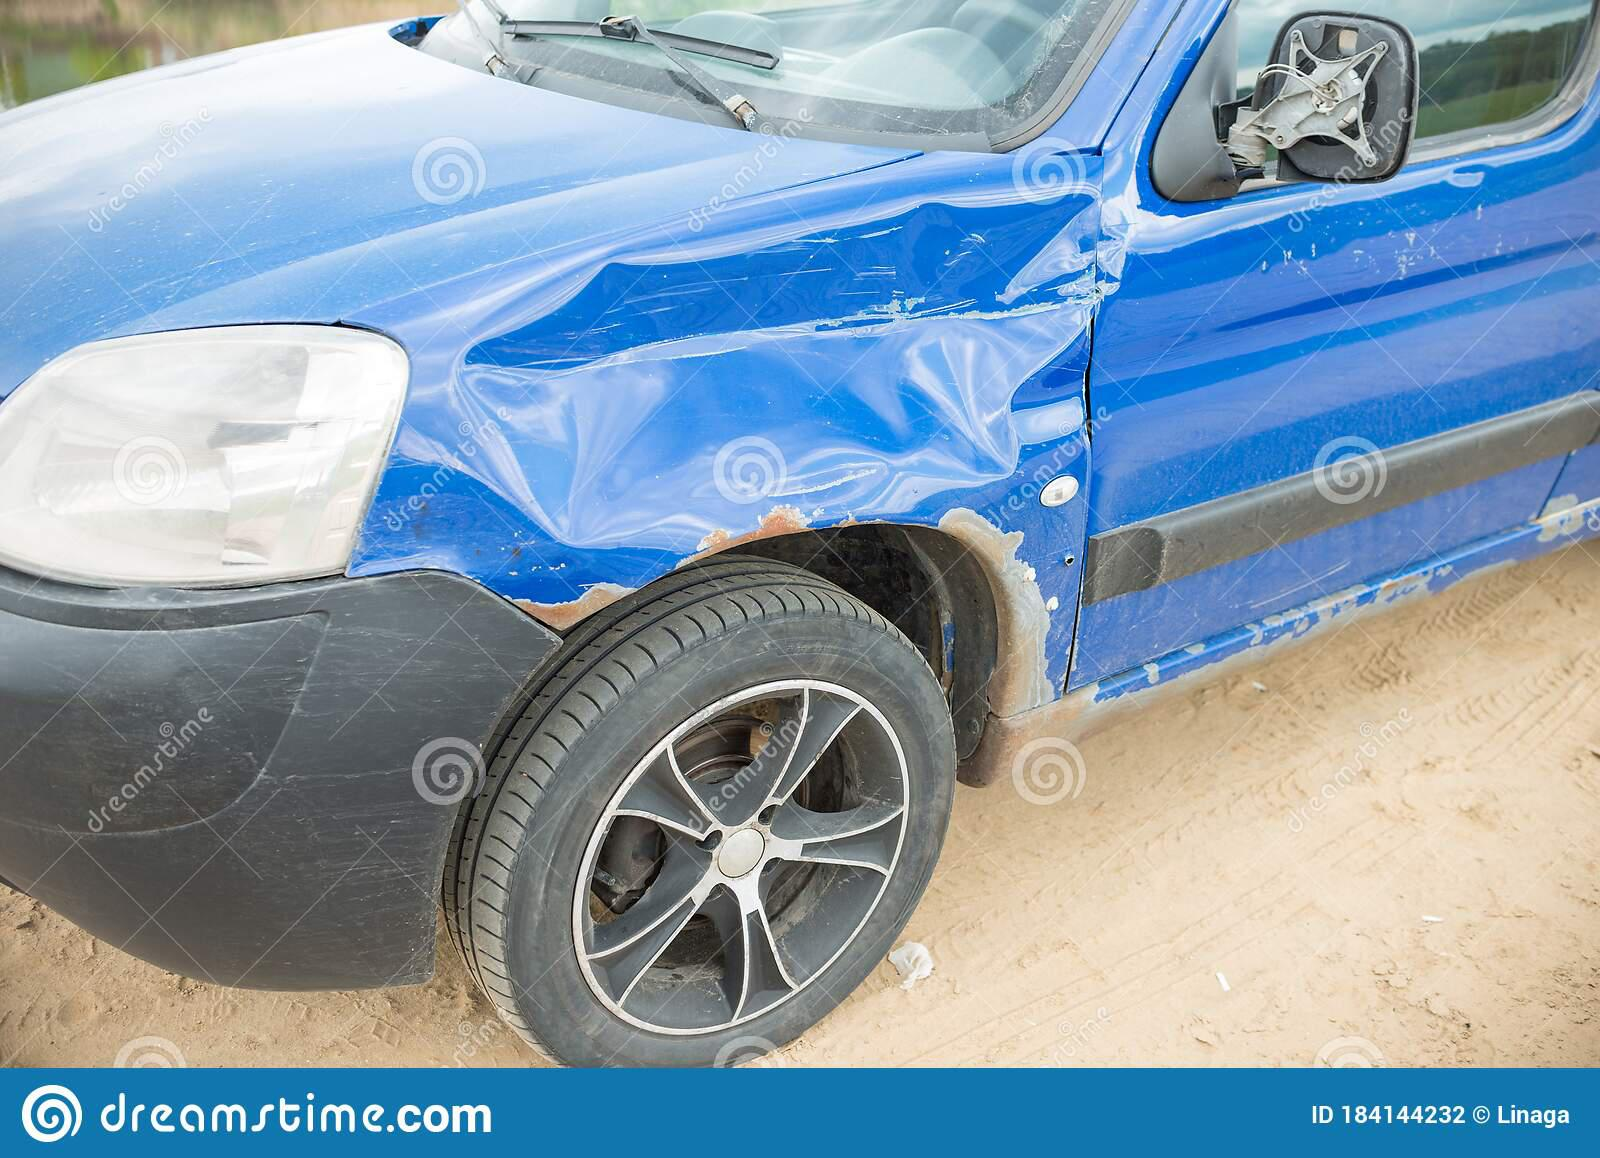RunningBoard-Dent: (1096, 606, 1365, 714), (1357, 502, 1599, 619)
Sidemirror-Damage: (1198, 0, 1455, 214)
fender-dent: (417, 194, 1081, 723)
